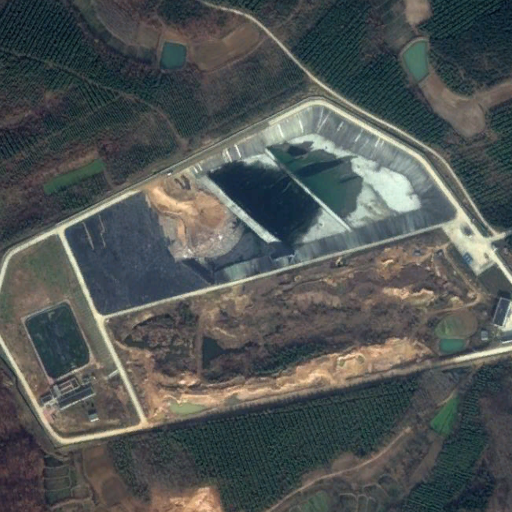lf: (63, 100, 460, 316)
